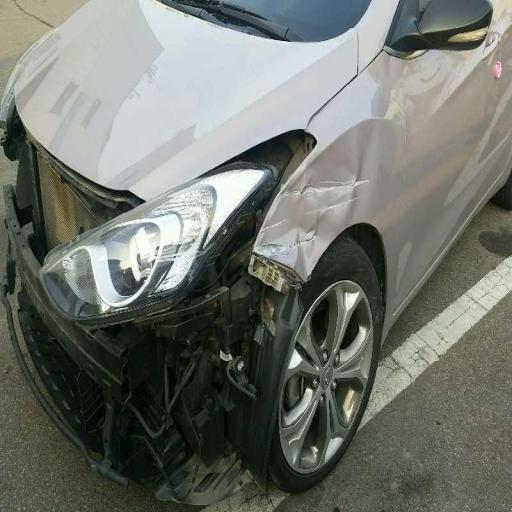broken: (113, 184, 325, 498)
